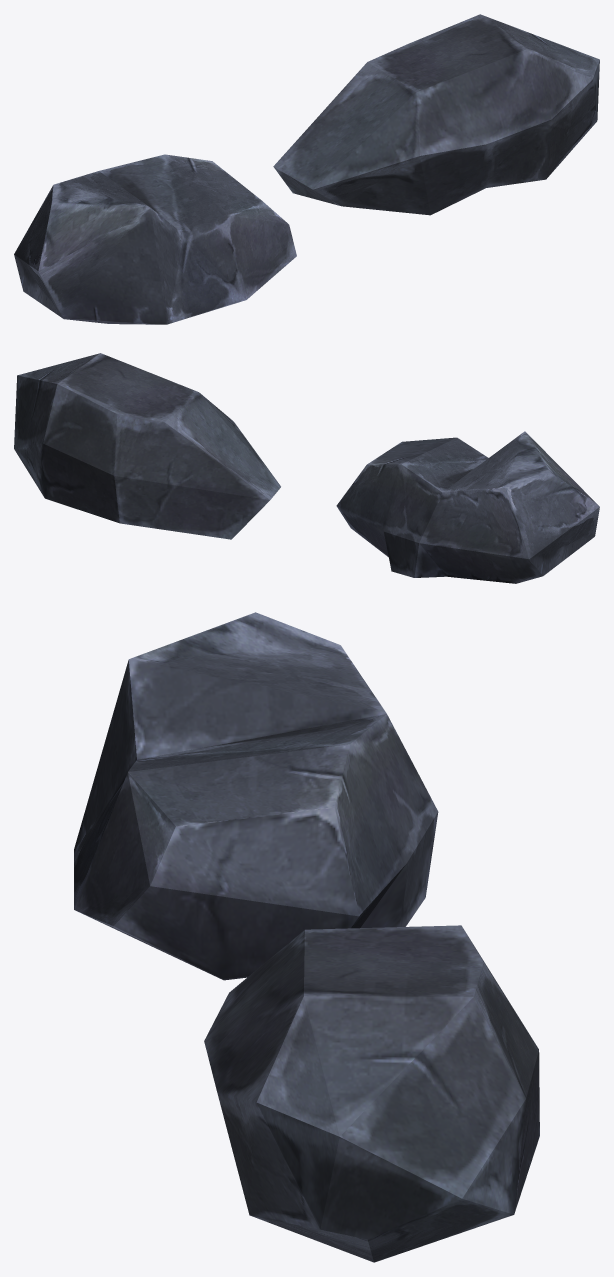
File: Stone1.FBX
The picture shows the model from 3 angles, top to bottom: view 1: azimuth 30°, elevation 25°; view 2: azimuth 150°, elevation 25°; view 3: azimuth 270°, elevation 25°; orthographic projection. The views are drawn at different scales.
Parts seen in each view (by area): view 1: stone2, stone1; view 2: stone2, stone1; view 3: stone1, stone2.
Boxes of the visible parts, bbox=[...] form: stone2: bbox=[273, 14, 599, 215]; stone1: bbox=[14, 154, 296, 324]; stone2: bbox=[14, 353, 280, 539]; stone1: bbox=[336, 431, 599, 583]; stone1: bbox=[74, 612, 438, 980]; stone2: bbox=[204, 925, 539, 1262].
Bounding box in the file's own units: 163 × 37.91 × 60.5.
